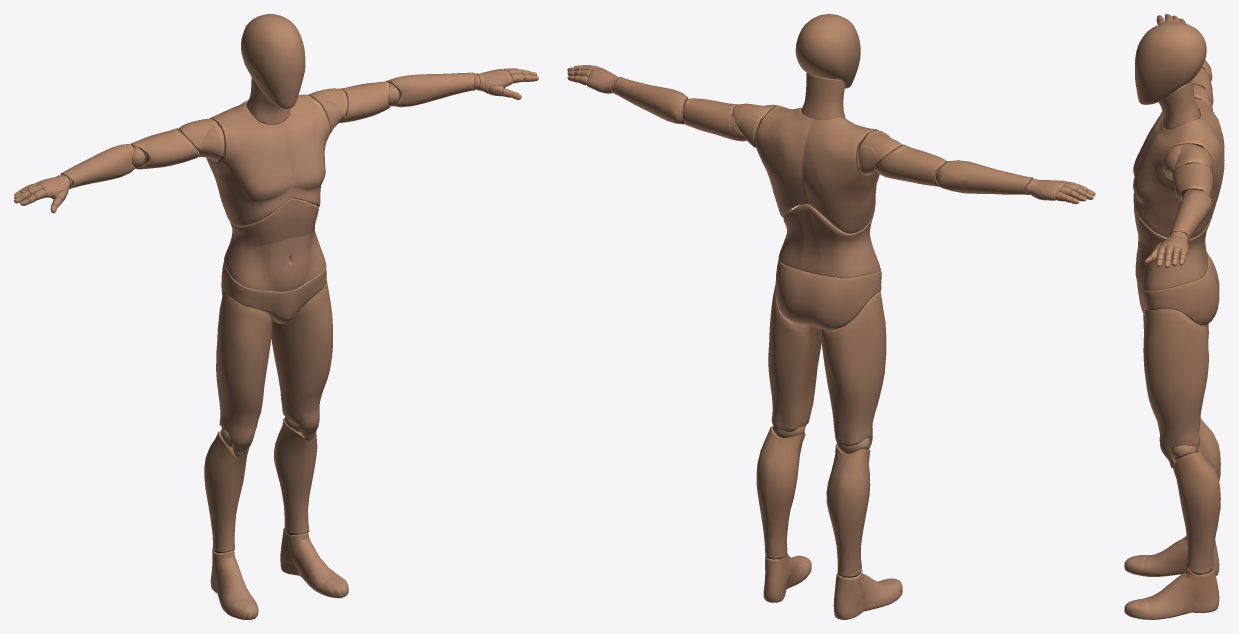
File: toonstudio_male_8head.glb
3 renders of one model, left to right at view 1: azimuth 30°, elevation 25°; view 2: azimuth 150°, elevation 25°; view 3: azimuth 270°, elevation 25°, orthographic.
Parts seen in each view (by area): view 1: bb295a2a_17e5_4dea_b661_4b99a5576fc2; view 2: bb295a2a_17e5_4dea_b661_4b99a5576fc2; view 3: bb295a2a_17e5_4dea_b661_4b99a5576fc2.
Part boxes in pixels (x1,y1,x2,y2): bb295a2a_17e5_4dea_b661_4b99a5576fc2: [14, 14, 538, 619]; bb295a2a_17e5_4dea_b661_4b99a5576fc2: [567, 14, 1095, 619]; bb295a2a_17e5_4dea_b661_4b99a5576fc2: [1124, 14, 1224, 619].
Bounding box in the file's own units: 1.62 × 1.7 × 0.2716.
1 material, 1 textured.
